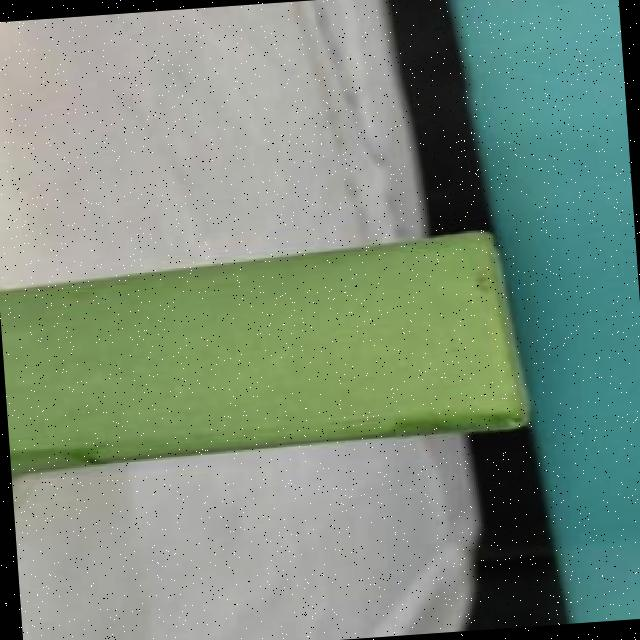greenbox: (0, 223, 533, 466)
